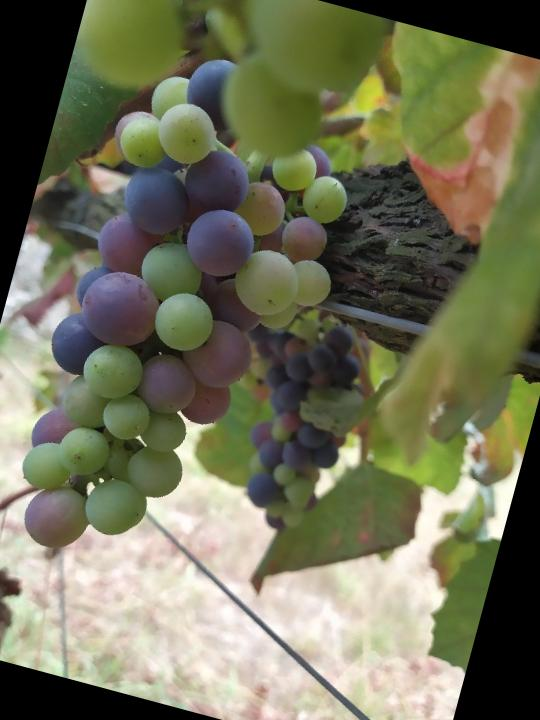grape: (0, 30, 386, 603)
